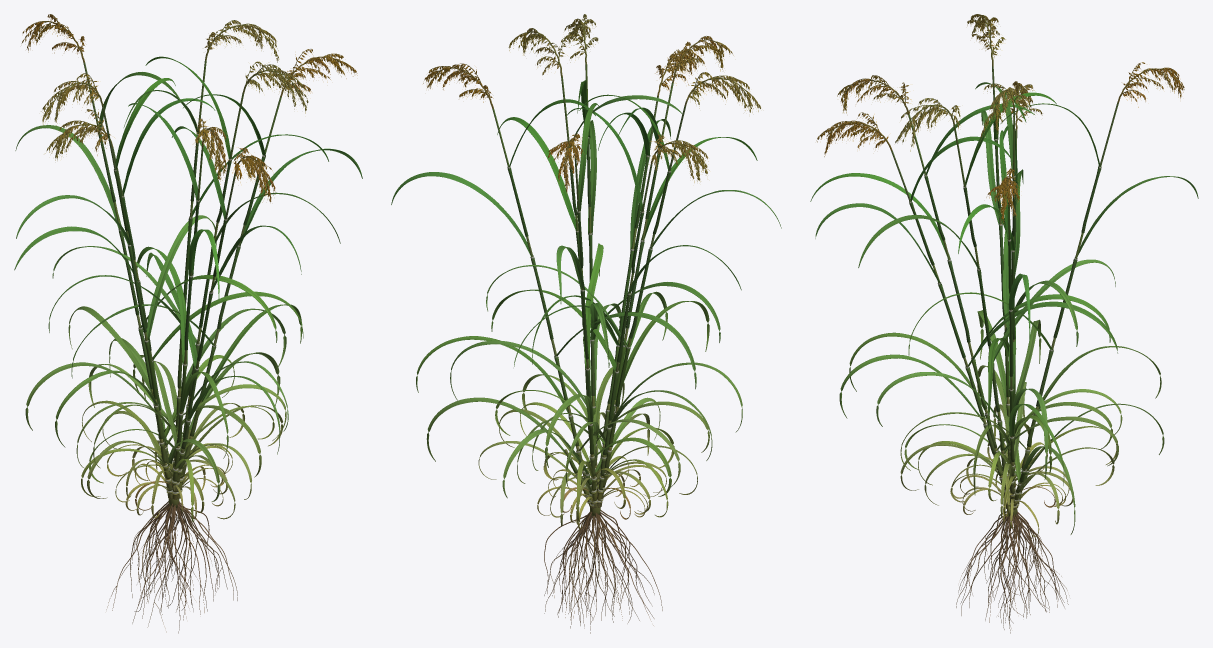
Rendered from rice-maturity.glb.
The picture shows the model from 3 angles, left to right: view 1: azimuth 30°, elevation 25°; view 2: azimuth 150°, elevation 25°; view 3: azimuth 270°, elevation 25°; orthographic projection. The views are drawn at different scales.
Visible parts, largest first — view 1: Tiller 6 · Leaf blade 6, Tiller 5 · Leaf blade 6, Tiller 8 · Leaf blade 7, Tiller 7 · Leaf blade 6, Tiller 8 · Leaf blade 5, Tiller 7 · Leaf blade 5, Tiller 2 · Leaf blade 5, Tiller 2 · Leaf blade 7, Tiller 8 · Leaf blade 6, Tiller 5 · Leaf blade 7, Tiller 5 · Leaf blade 5, Main culm · Leaf blade 5 (+10 smaller); view 2: Main culm · Leaf blade 7, Tiller 2 · Leaf blade 7, Tiller 8 · Leaf blade 6, Tiller 10 (late) · Leaf blade 5, Tiller 2 · Leaf blade 5, Tiller 2 · Leaf blade 6, Tiller 4 · Leaf blade 7, Main culm · Leaf blade 5, Tiller 3 · Leaf blade 7, Tiller 8 · Flag leaf blade, Tiller 5 · Leaf blade 5, Main culm · Leaf blade 6 (+3 smaller); view 3: Tiller 4 · Leaf blade 6, Tiller 4 · Leaf blade 5, Tiller 5 · Leaf blade 5, Tiller 3 · Leaf blade 6, Tiller 5 · Leaf blade 7, Tiller 6 · Leaf blade 7, Tiller 5 · Leaf blade 6, Tiller 3 · Leaf blade 5, Tiller 7 · Leaf blade 5, Tiller 3 · Leaf blade 7.
Boxes of the visible parts, x1=… form: Tiller 6 · Leaf blade 6: x1=144, y1=215, x2=216, y2=341; Tiller 5 · Leaf blade 6: x1=136, y1=246, x2=187, y2=365; Tiller 8 · Leaf blade 7: x1=15, y1=125, x2=121, y2=231; Tiller 7 · Leaf blade 6: x1=152, y1=291, x2=303, y2=360; Tiller 8 · Leaf blade 5: x1=68, y1=306, x2=151, y2=393; Tiller 7 · Leaf blade 5: x1=25, y1=362, x2=160, y2=430; Tiller 2 · Leaf blade 5: x1=201, y1=304, x2=302, y2=401; Tiller 2 · Leaf blade 7: x1=239, y1=148, x2=362, y2=247; Tiller 8 · Leaf blade 6: x1=139, y1=275, x2=277, y2=342; Tiller 5 · Leaf blade 7: x1=188, y1=229, x2=219, y2=299; Tiller 5 · Leaf blade 5: x1=179, y1=372, x2=228, y2=458; Main culm · Leaf blade 5: x1=180, y1=308, x2=286, y2=398; Main culm · Leaf blade 7: x1=497, y1=117, x2=576, y2=232; Tiller 2 · Leaf blade 7: x1=391, y1=172, x2=533, y2=258; Tiller 8 · Leaf blade 6: x1=583, y1=243, x2=603, y2=369; Tiller 10 (late) · Leaf blade 5: x1=426, y1=397, x2=570, y2=461; Tiller 2 · Leaf blade 5: x1=416, y1=336, x2=569, y2=415; Tiller 2 · Leaf blade 6: x1=554, y1=312, x2=696, y2=389; Tiller 4 · Leaf blade 7: x1=630, y1=119, x2=670, y2=250; Main culm · Leaf blade 5: x1=450, y1=340, x2=586, y2=405; Tiller 3 · Leaf blade 7: x1=588, y1=120, x2=596, y2=234; Tiller 8 · Flag leaf blade: x1=576, y1=103, x2=598, y2=212; Tiller 5 · Leaf blade 5: x1=615, y1=301, x2=709, y2=405; Main culm · Leaf blade 6: x1=590, y1=282, x2=720, y2=342; Tiller 4 · Leaf blade 6: x1=966, y1=301, x2=1117, y2=368; Tiller 4 · Leaf blade 5: x1=839, y1=354, x2=986, y2=425; Tiller 5 · Leaf blade 5: x1=849, y1=332, x2=987, y2=415; Tiller 3 · Leaf blade 6: x1=993, y1=259, x2=1115, y2=361; Tiller 5 · Leaf blade 7: x1=810, y1=173, x2=950, y2=261; Tiller 6 · Leaf blade 7: x1=981, y1=111, x2=1002, y2=225; Tiller 5 · Leaf blade 6: x1=973, y1=294, x2=1110, y2=356; Tiller 3 · Leaf blade 5: x1=876, y1=372, x2=1001, y2=426; Tiller 7 · Leaf blade 5: x1=1015, y1=319, x2=1041, y2=395; Tiller 3 · Leaf blade 7: x1=858, y1=215, x2=980, y2=270.
Bounding box in the file's own units: 1.03 × 1.55 × 0.9714.
